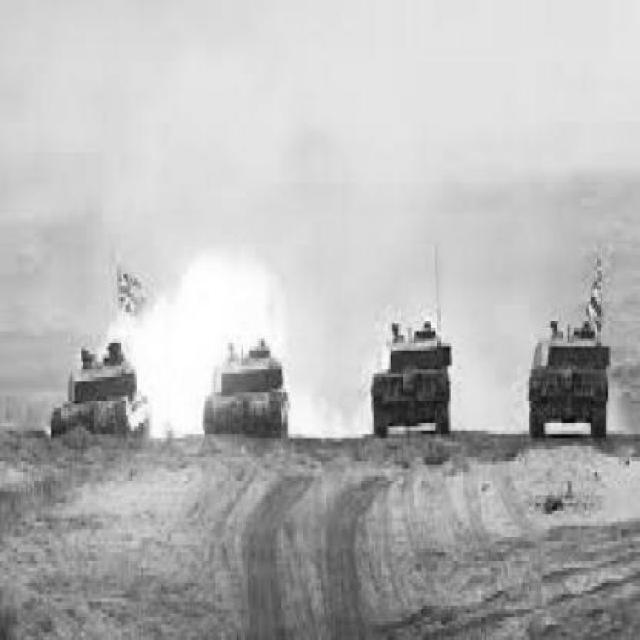Tank: (526, 313, 610, 438), (49, 338, 152, 438), (369, 316, 452, 435), (201, 335, 290, 436)
